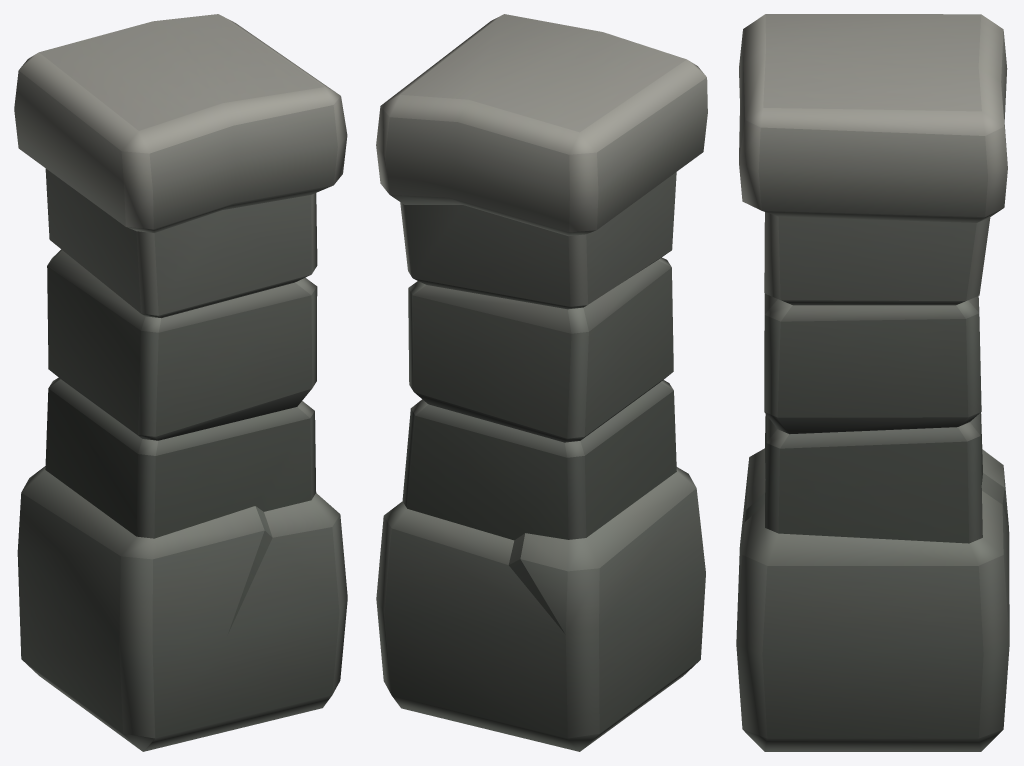
File: pillar_2.fbx
3 views of the same model, side by side, from view 1: azimuth 30°, elevation 25°; view 2: azimuth 150°, elevation 25°; view 3: azimuth 270°, elevation 25° (orthographic). The views are drawn at different scales.
Parts seen in each view (by area): view 1: pillar_2; view 2: pillar_2; view 3: pillar_2.
Boxes of the visible parts, left/top/right/bottom form: pillar_2: left=14, top=14, right=347, bottom=751; pillar_2: left=376, top=14, right=707, bottom=751; pillar_2: left=736, top=14, right=1009, bottom=751.
Bounding box in the file's own units: 115 × 305 × 116.
